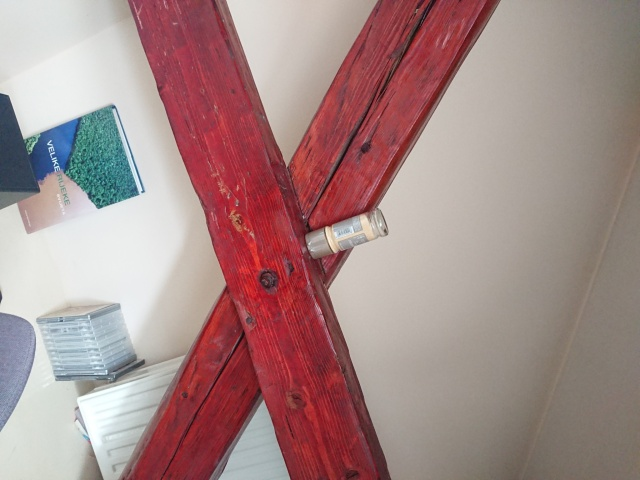Kotanyi Garlic Granules 70g: (302, 205, 391, 261)
